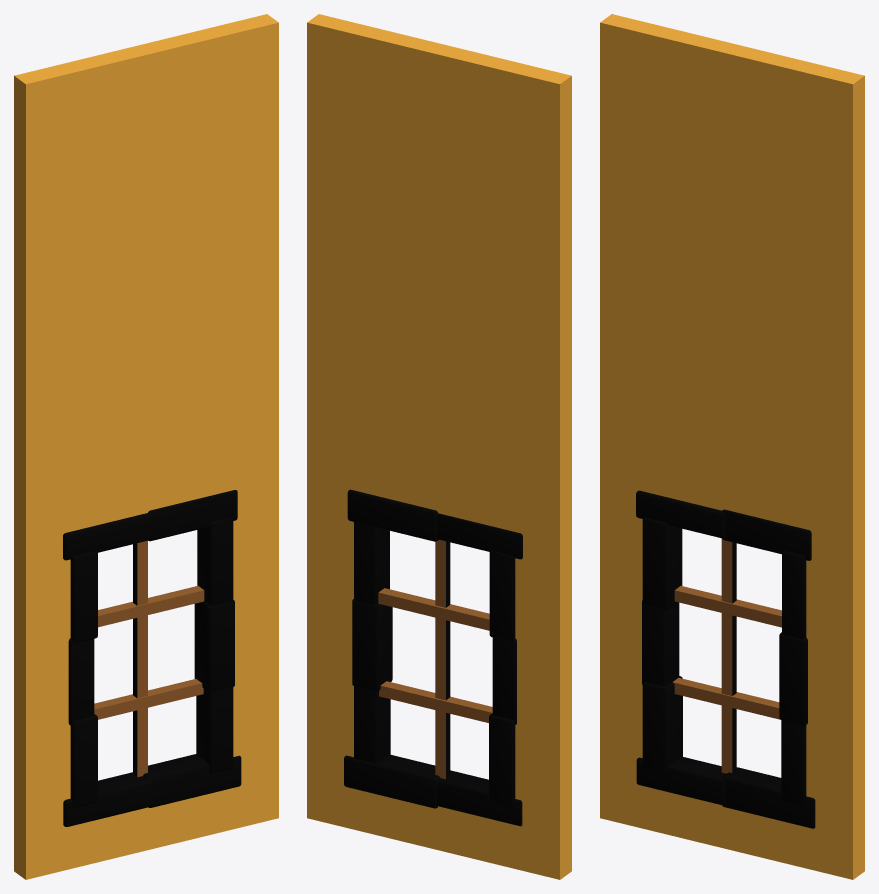
The model's file is Wall H 6.fbx.
The picture shows the model from 3 angles, left to right: view 1: azimuth 30°, elevation 25°; view 2: azimuth 150°, elevation 25°; view 3: azimuth 330°, elevation 25°; orthographic projection.
Visible parts, largest first — view 1: Wall H 6; view 2: Wall H 6; view 3: Wall H 6.
Part boxes in pixels (x1,y1,x2,y2): Wall H 6: [14, 14, 278, 879]; Wall H 6: [307, 14, 571, 879]; Wall H 6: [600, 14, 864, 879].
Bounding box in the file's own units: 249 × 747 × 28.48.
Materials: 1 (1 with a texture image).
